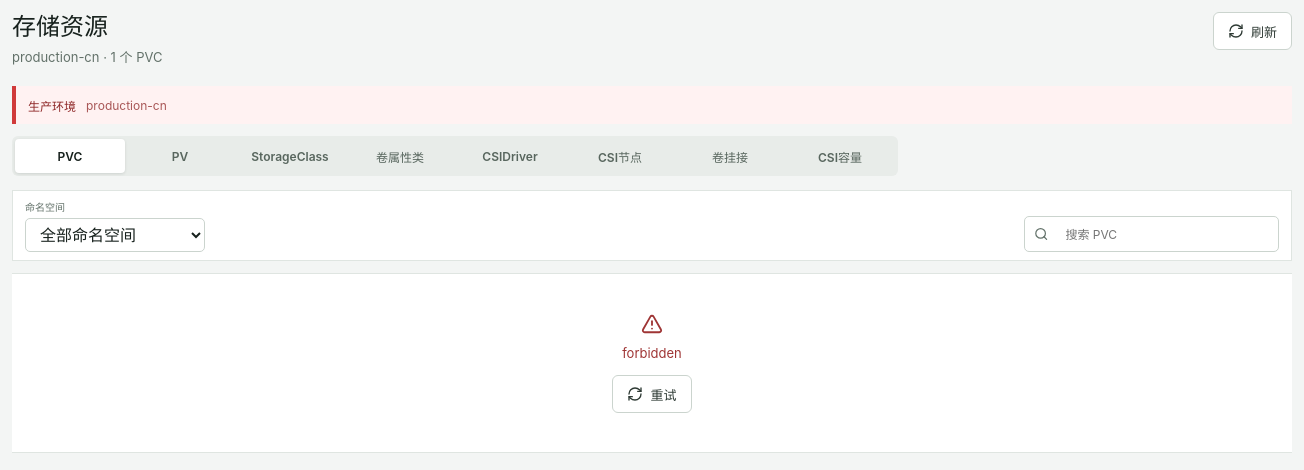
Test: StoragePage › keeps cluster-scoped storage available when namespace discovery fails
Click the button "PV". click: click(180, 156)
box: [125,139,235,173]
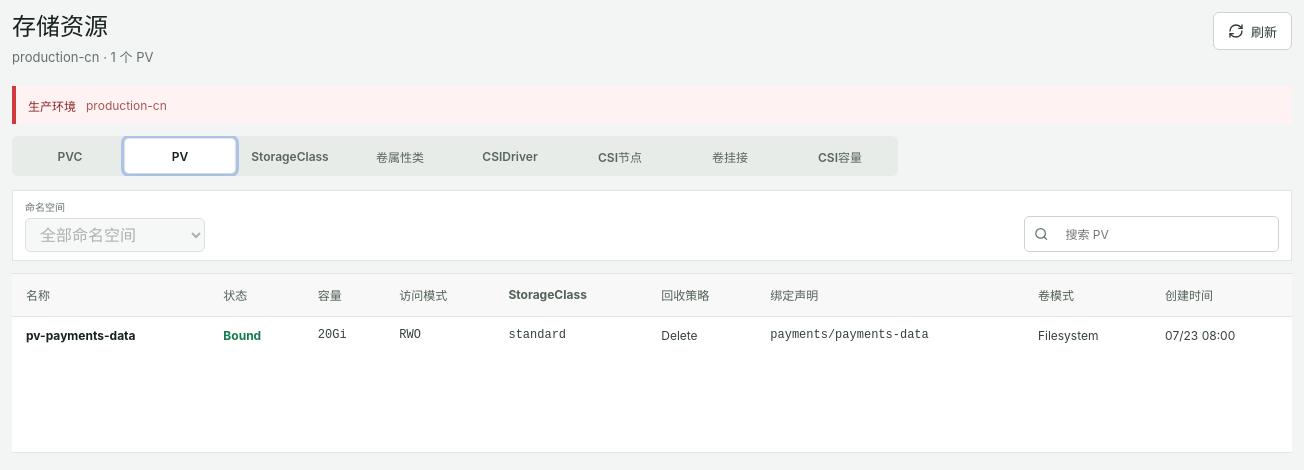
Expected: the text "pv-payments-data" is shown, [26,328,136,342]
